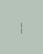one: (19, 20, 22, 33)
